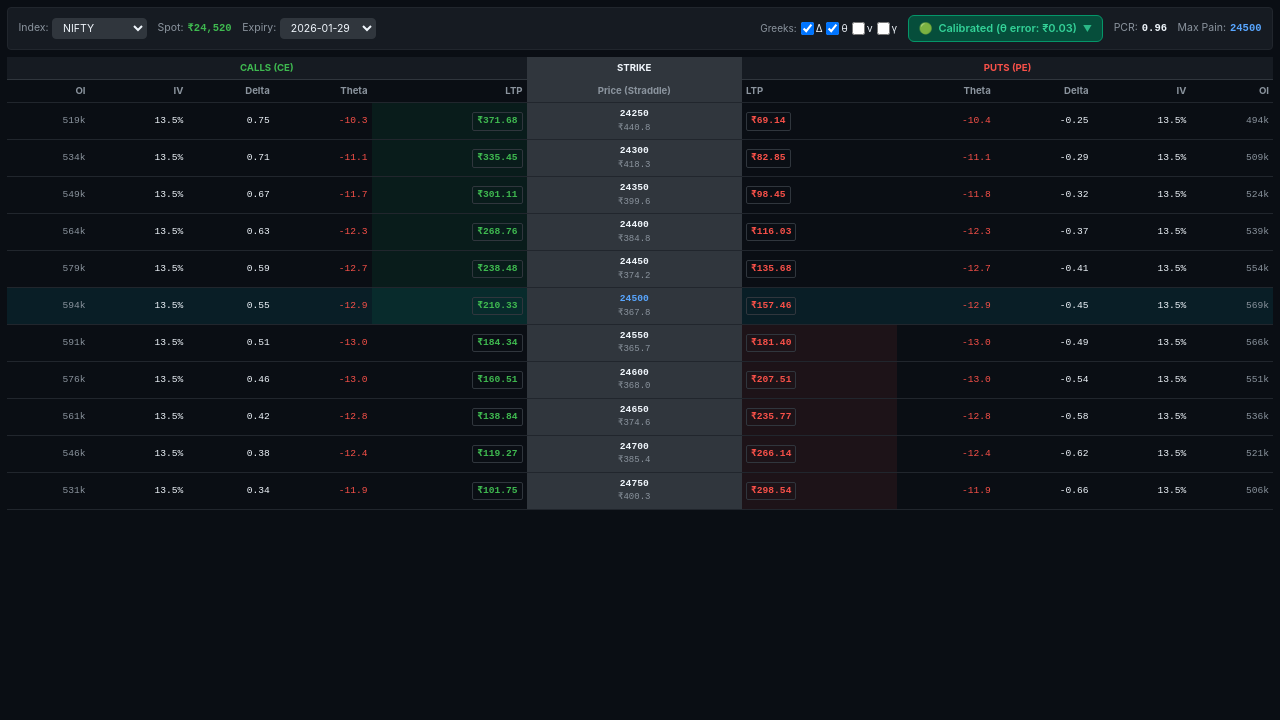
OptionChainWidget Component › switches underlying index to BANKNIFTY
Select "BANKNIFTY" in the dropdown named "Select Underlying Index" at (100, 28), box [52,18,147,39]
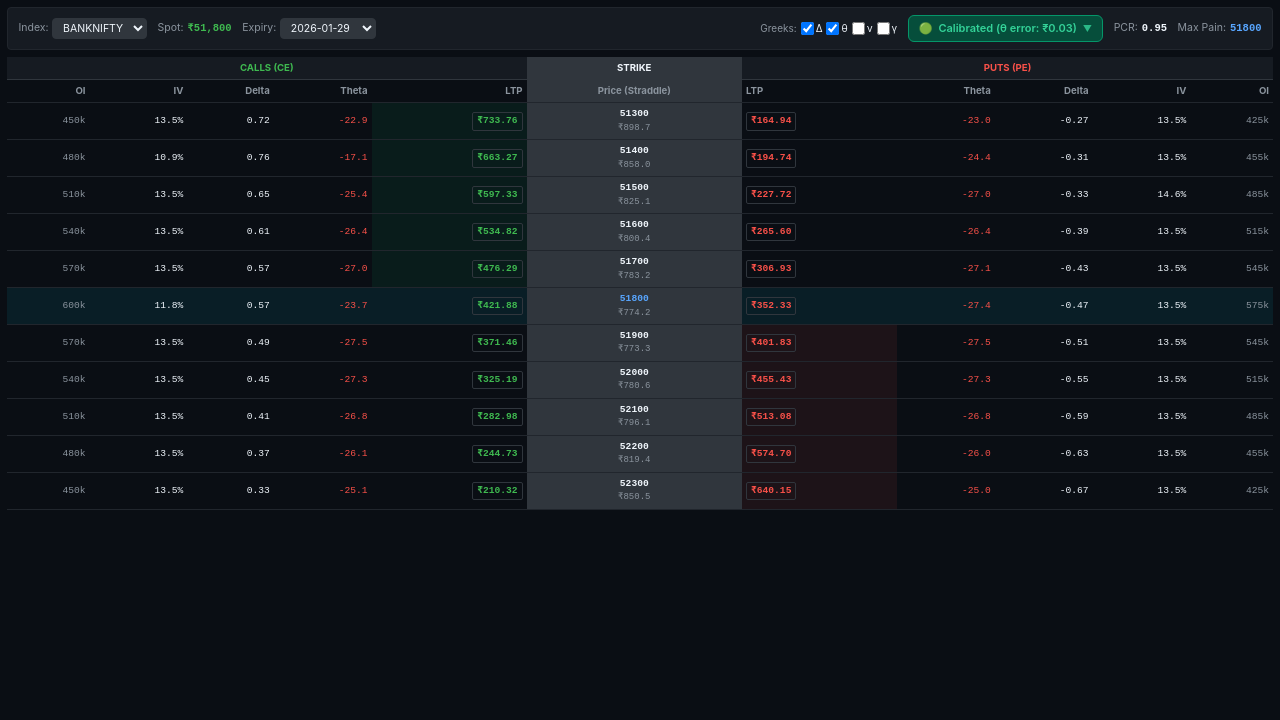
Now the text with test id "option-chain-spot" shows "51", box [194,22,232,34]
